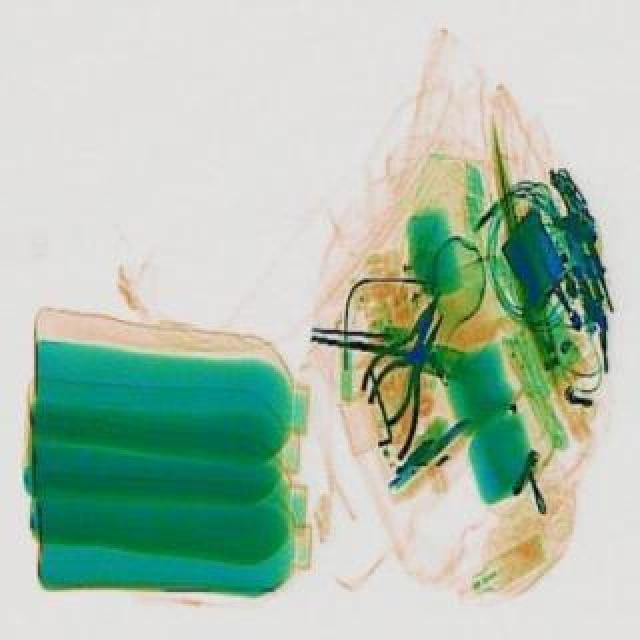wrench: (344, 296, 472, 456), (342, 278, 462, 426)
